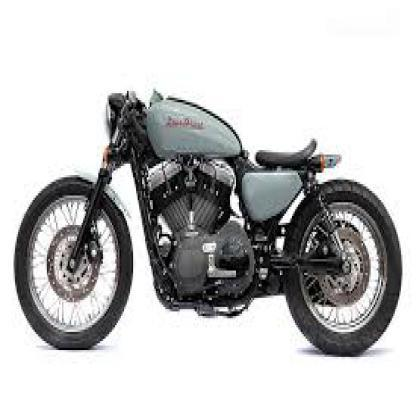Motorcycle: (9, 90, 406, 362)
